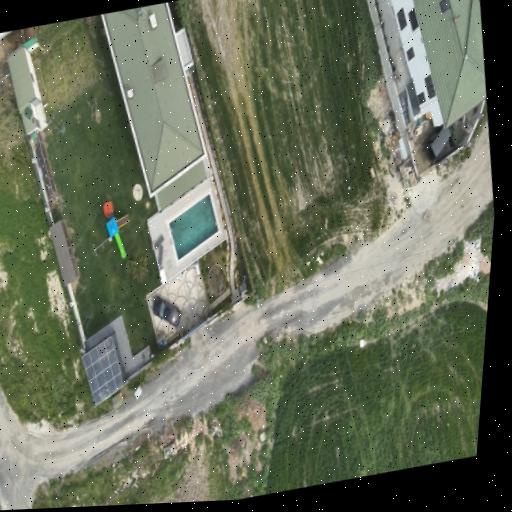car: (151, 297, 180, 327), (431, 126, 453, 157)
